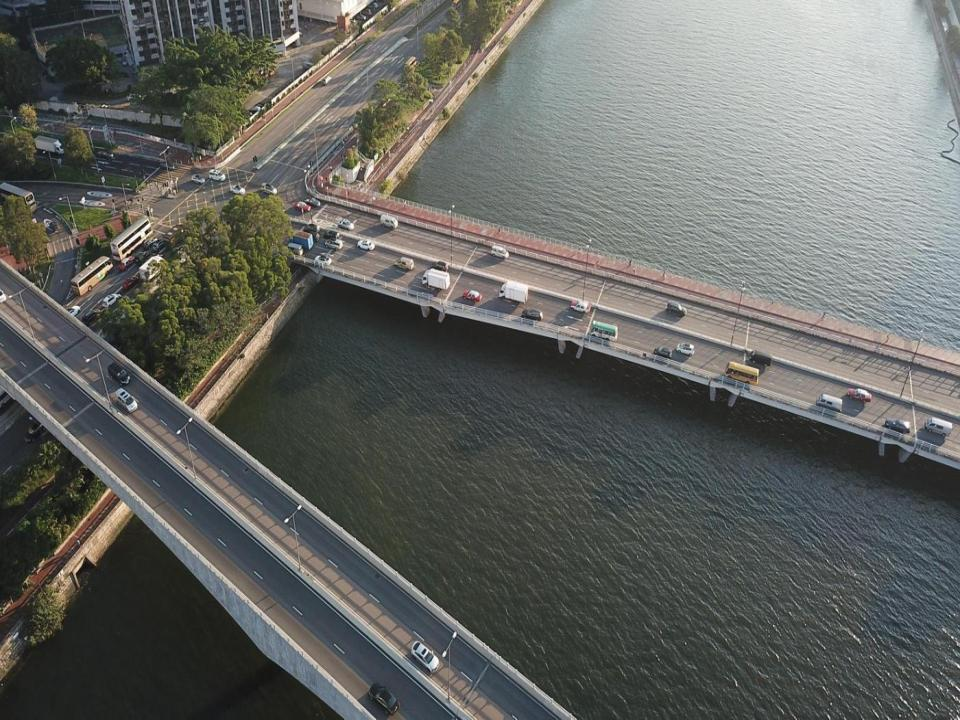bus: (110, 218, 153, 262), (70, 256, 114, 295), (0, 181, 36, 216), (724, 360, 759, 385), (588, 319, 618, 342), (403, 56, 416, 71), (450, 0, 462, 10)
car: (368, 682, 400, 716), (411, 640, 439, 674), (24, 417, 52, 442), (108, 362, 131, 384), (885, 418, 911, 434), (847, 387, 871, 404), (82, 308, 101, 326), (665, 301, 687, 316), (521, 308, 543, 322), (101, 293, 120, 308), (63, 305, 80, 321), (570, 300, 590, 313), (119, 255, 135, 271), (122, 275, 139, 290), (490, 245, 509, 258), (325, 238, 343, 251), (463, 289, 481, 302), (654, 346, 672, 359), (676, 342, 694, 355), (134, 250, 149, 265), (303, 195, 320, 208), (315, 253, 332, 266), (356, 240, 374, 252), (261, 182, 277, 195), (338, 218, 354, 231), (294, 200, 311, 212), (303, 223, 320, 235), (430, 261, 448, 272), (144, 237, 158, 250), (323, 230, 339, 241), (230, 184, 246, 194), (97, 149, 114, 158), (305, 231, 320, 241), (154, 238, 165, 251), (191, 174, 205, 184), (160, 162, 175, 171), (48, 221, 60, 232), (127, 92, 141, 100), (323, 75, 332, 86), (360, 8, 372, 16), (355, 14, 366, 21), (366, 5, 375, 11), (122, 57, 128, 65), (370, 2, 378, 8)
truck: (498, 279, 529, 304), (162, 221, 188, 250), (138, 255, 166, 280), (422, 268, 450, 290), (34, 134, 64, 154), (289, 230, 314, 250)
van: (115, 387, 138, 413), (925, 416, 952, 436), (815, 394, 842, 414), (750, 350, 772, 367), (380, 213, 398, 229), (394, 256, 414, 270), (287, 242, 304, 257), (209, 168, 226, 182), (303, 61, 318, 70)
